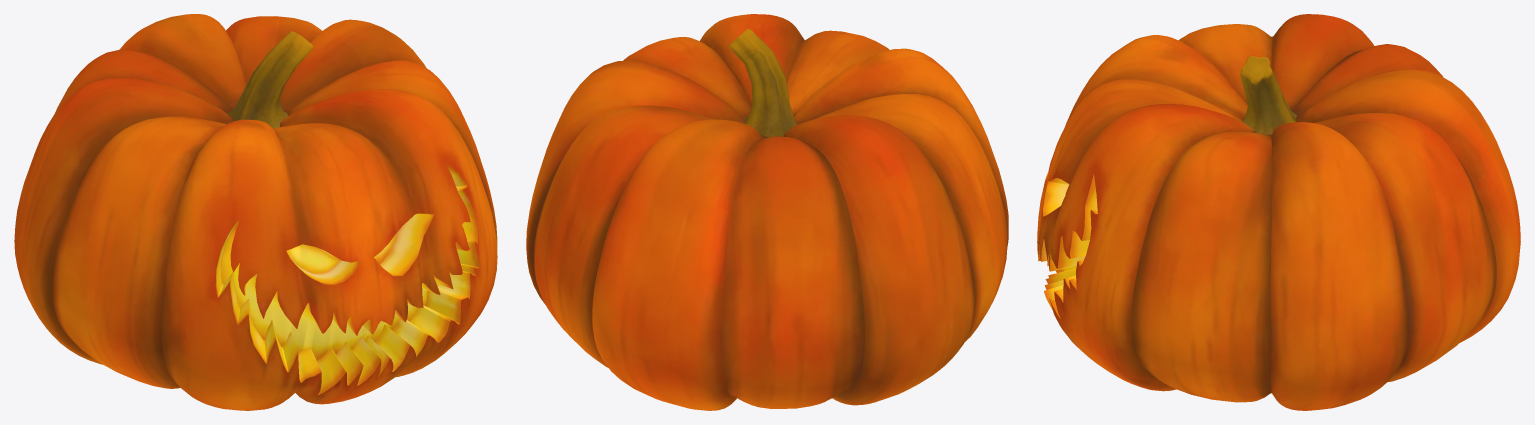
Rendered from halloween_pumpkin.glb.
The picture shows the model from 3 angles, left to right: view 1: azimuth 30°, elevation 25°; view 2: azimuth 150°, elevation 25°; view 3: azimuth 270°, elevation 25°; orthographic projection.
Parts seen in each view (by area): view 1: Pumpkin_Mat.1_0; view 2: Pumpkin_Mat.1_0; view 3: Pumpkin_Mat.1_0.
Boxes of the visible parts, x1=… form: Pumpkin_Mat.1_0: x1=14, y1=14, x2=497, y2=410; Pumpkin_Mat.1_0: x1=526, y1=14, x2=1008, y2=410; Pumpkin_Mat.1_0: x1=1037, y1=14, x2=1520, y2=410.
Bounding box in the file's own units: 268 × 191 × 269.
Materials: 1 (1 with a texture image).
